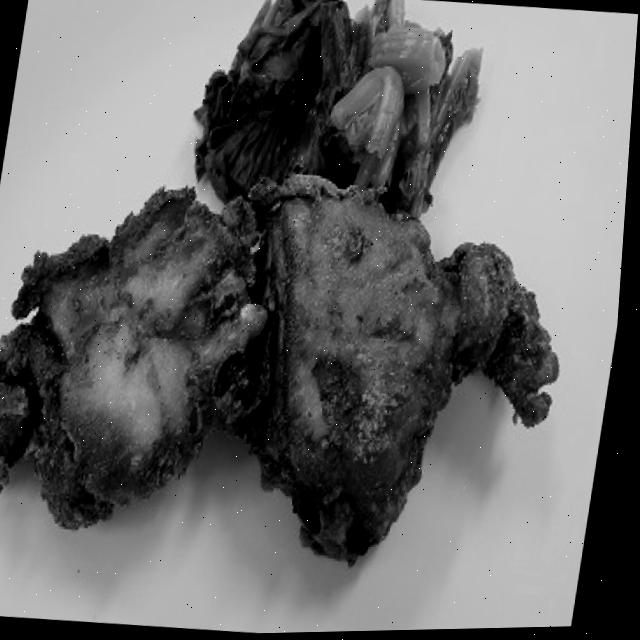鸡肉料理 含炸鸡: (0, 89, 634, 640)
